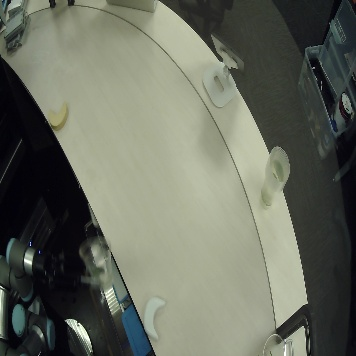empty_cup: (260, 141, 294, 217), (255, 330, 296, 355)
puck: (141, 291, 168, 342), (44, 100, 73, 130)
